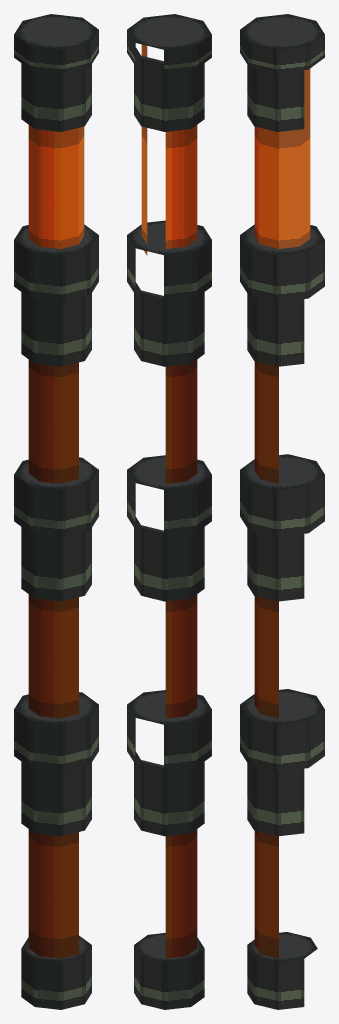
3 views of the same model, side by side, from view 1: azimuth 30°, elevation 25°; view 2: azimuth 150°, elevation 25°; view 3: azimuth 330°, elevation 25° (orthographic).
Bounding box in the file's own units: 3.05 × 41.03 × 3.05.
2 materials, 2 textured.
